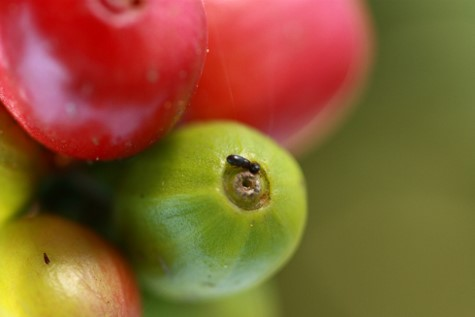broca de cafe: (164, 82, 318, 243)
